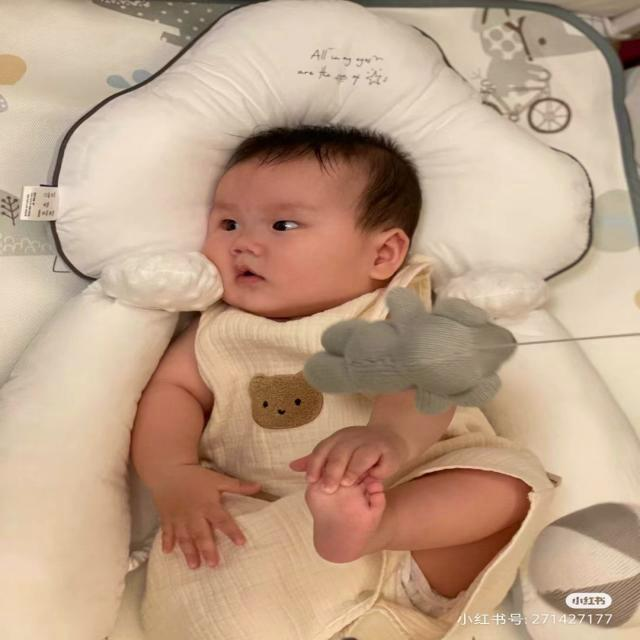child: (131, 119, 538, 611)
